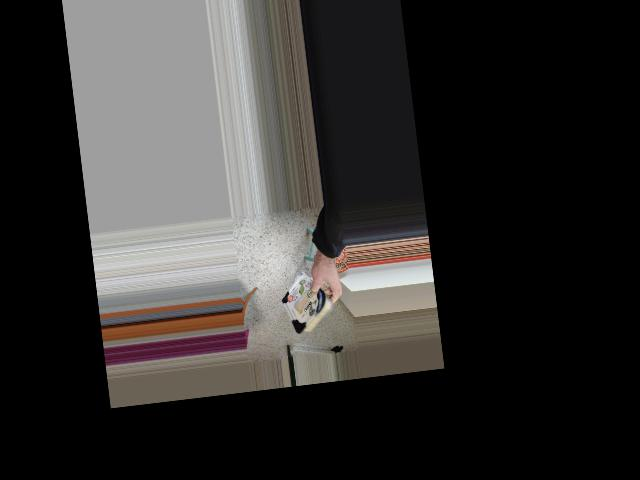cheese: (272, 273, 351, 336)
